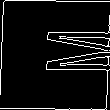M_W: (6, 31, 104, 79)
